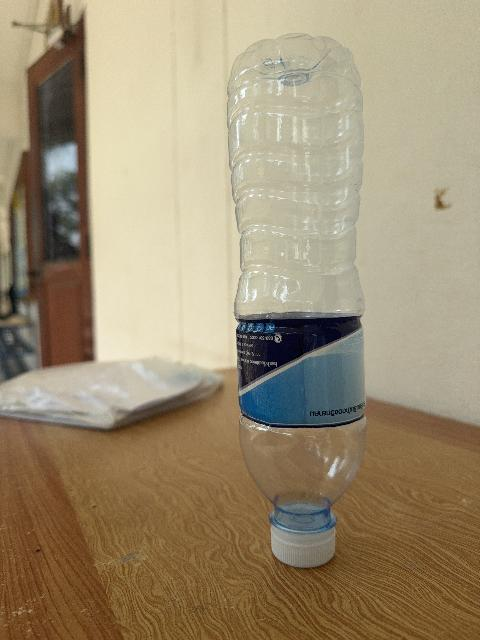bottle: (228, 34, 365, 566)
